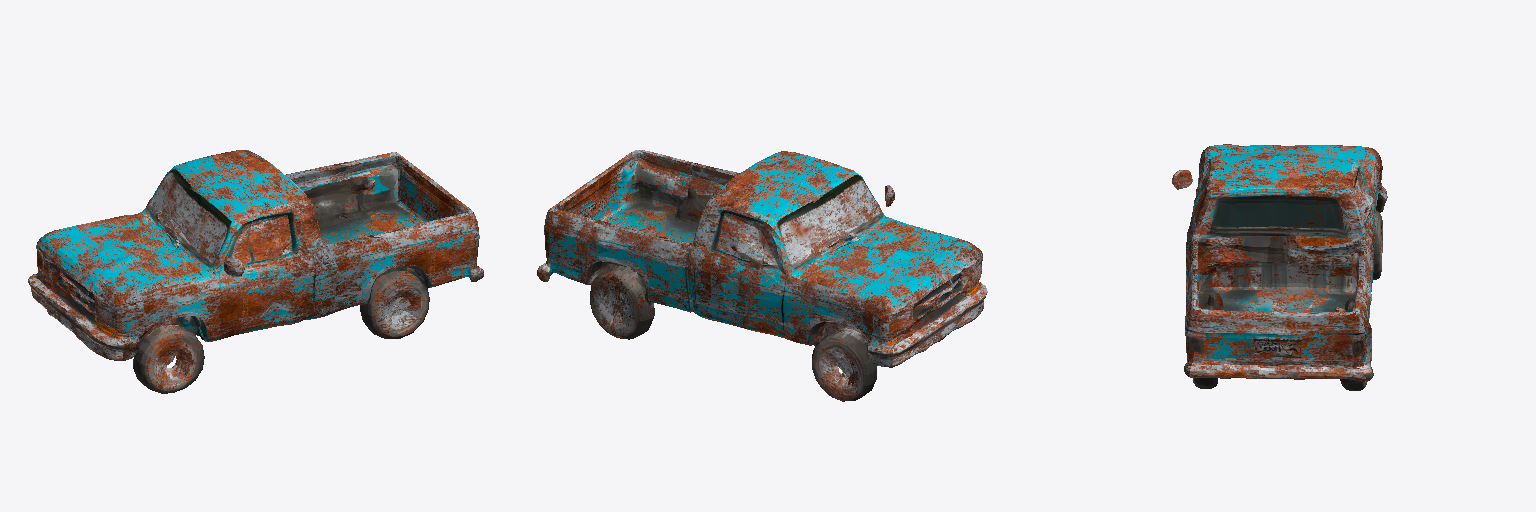
The picture shows the model from 3 angles: view 1: azimuth 30°, elevation 25°; view 2: azimuth 150°, elevation 25°; view 3: azimuth 270°, elevation 25°; orthographic projection.
Parts seen in each view (by area): view 1: F-150; view 2: F-150; view 3: F-150.
Boxes of the visible parts, x1=… form: F-150: x1=28, y1=150, x2=483, y2=393; F-150: x1=537, y1=150, x2=987, y2=401; F-150: x1=1172, y1=144, x2=1387, y2=390.
Bounding box in the file's own units: 1.19 × 0.4894 × 0.5915.
1 materials, 1 textured.